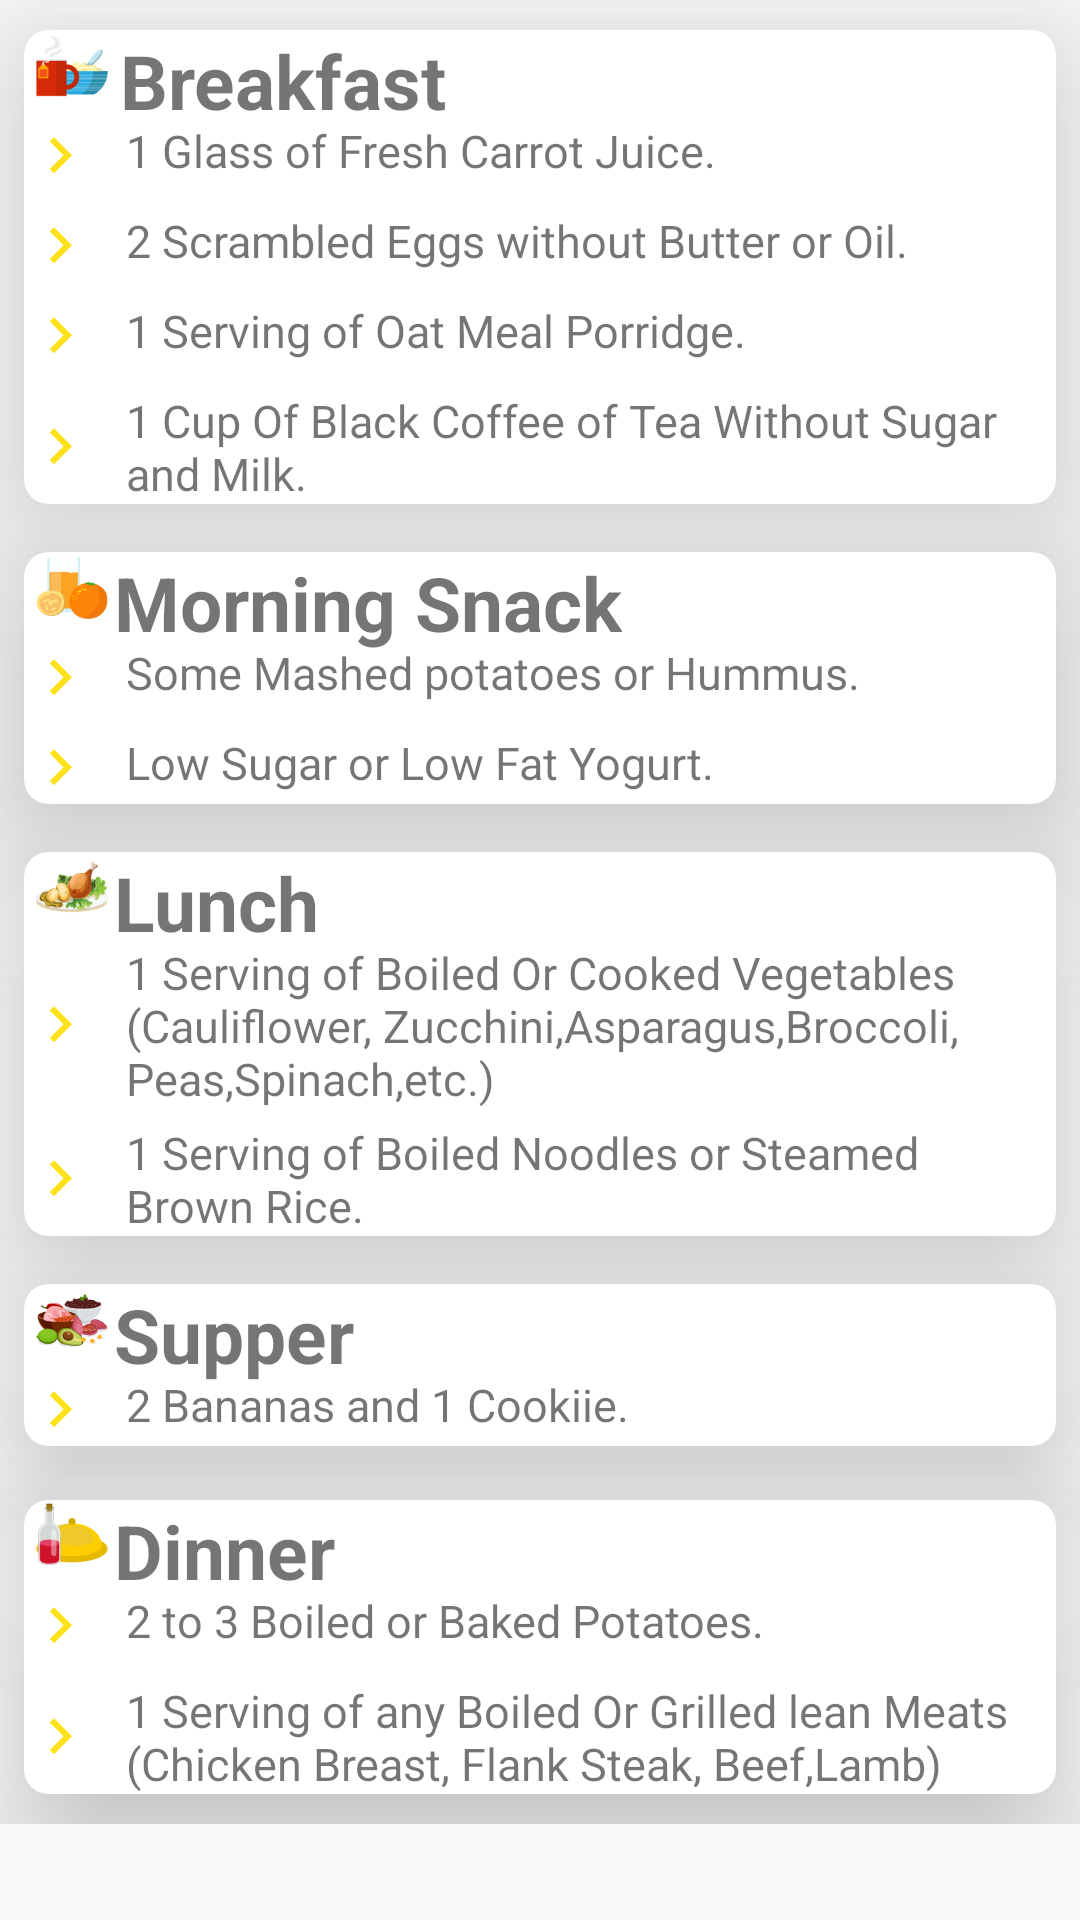

Named icons in this screenshot (1080*1920) and their centers, [x,y]:
snacks: [72,588]
